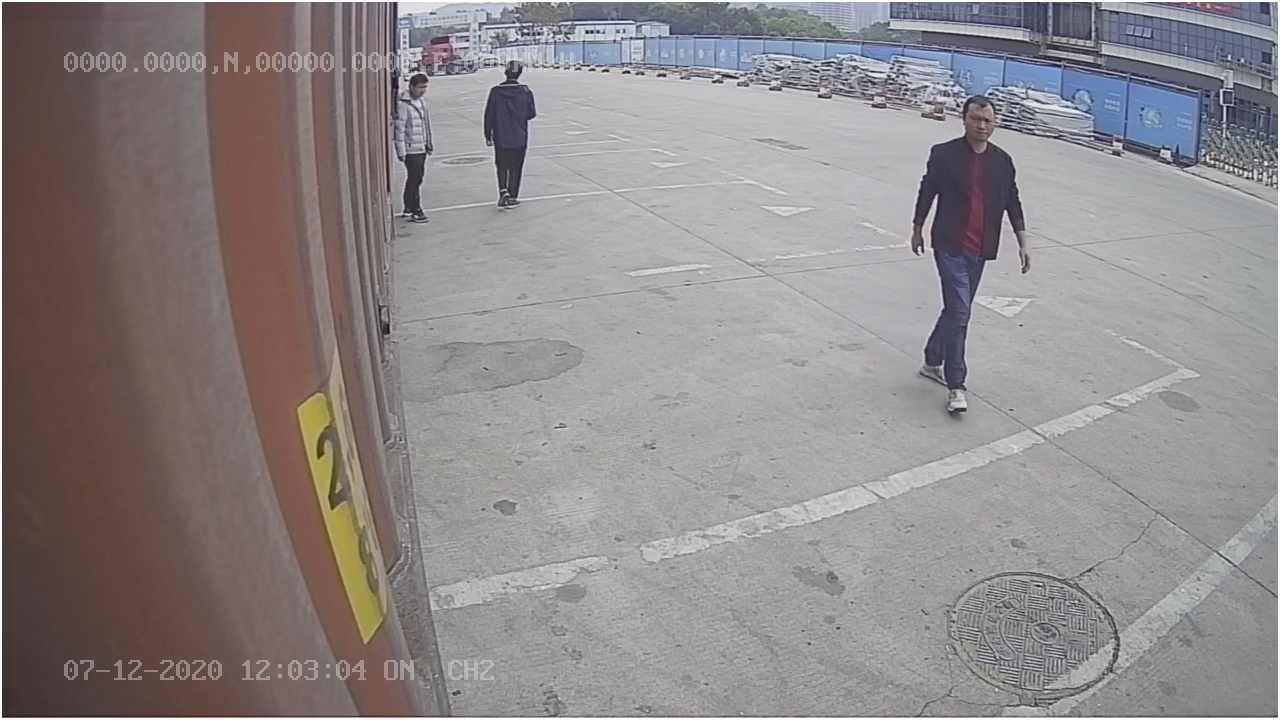person: (912, 95, 1036, 417)
